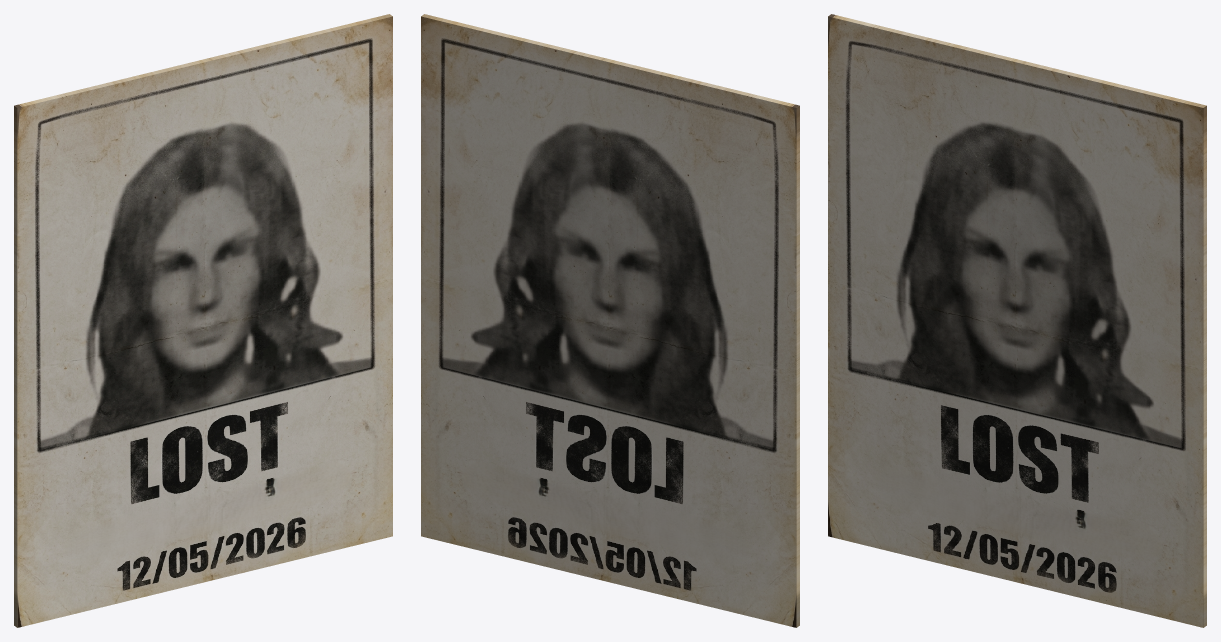
File: Cartel de Desaparecido 2.fbx
The picture shows the model from 3 angles, left to right: view 1: azimuth 30°, elevation 25°; view 2: azimuth 150°, elevation 25°; view 3: azimuth 330°, elevation 25°; orthographic projection.
Parts seen in each view (by area): view 1: Plane001; view 2: Plane001; view 3: Plane001.
Boxes of the visible parts, box(x1,y1,x2,y2) form: Plane001: box(14, 14, 392, 627); Plane001: box(421, 14, 799, 627); Plane001: box(828, 14, 1206, 627).
Size of the model in its own units: 6.8 by 9 by 0.1042.
